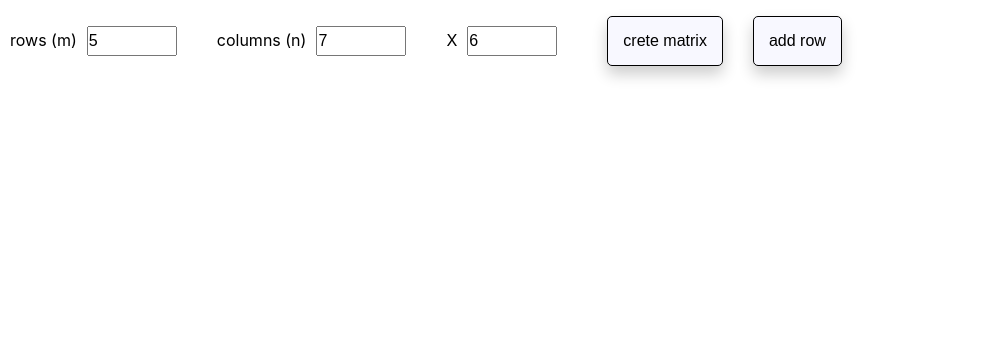
it: Context › renders table with 2 after creating matrix value for rows quantity 2
Replace the text in the number field with test id "rows-input" with "2": {"x": 132, "y": 41} [87, 26, 177, 56]
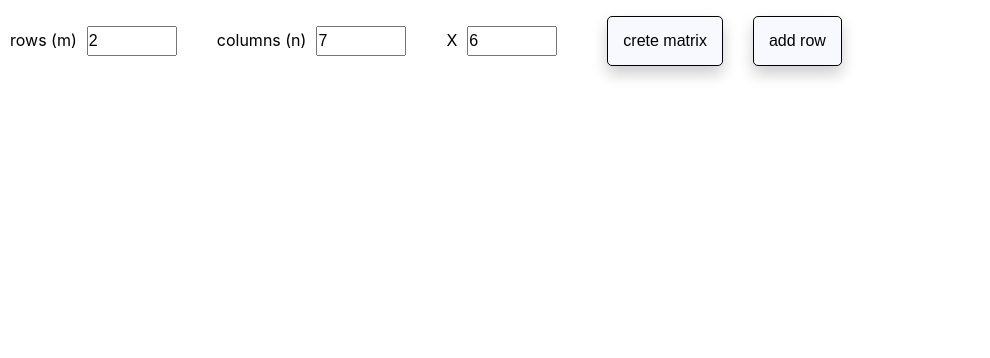
Click the button "crete matrix": {"x": 665, "y": 41} [607, 16, 723, 66]
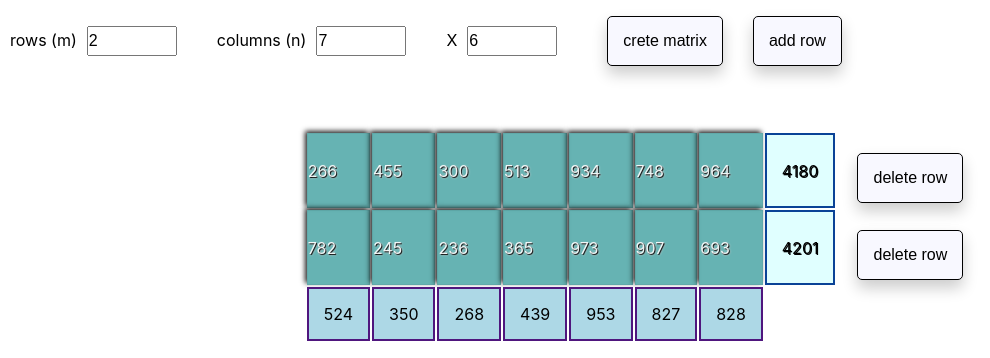
expect the number of rows is 3: met, box [307, 133, 973, 208]; [307, 210, 973, 285]; [307, 287, 973, 341]
